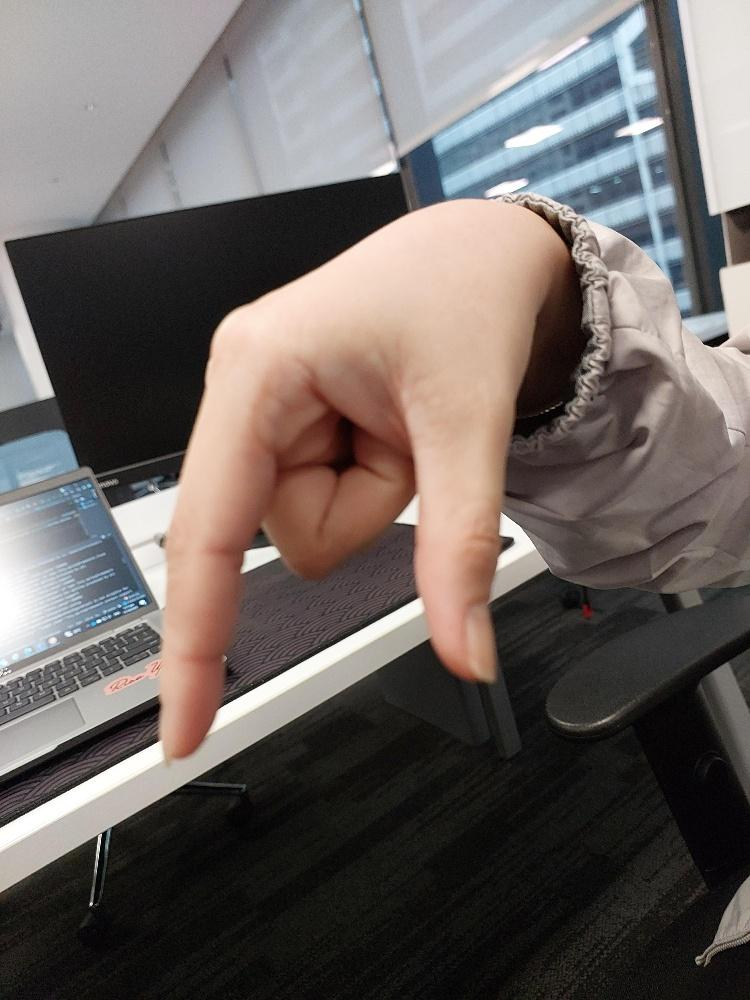q: (157, 248, 531, 761)
